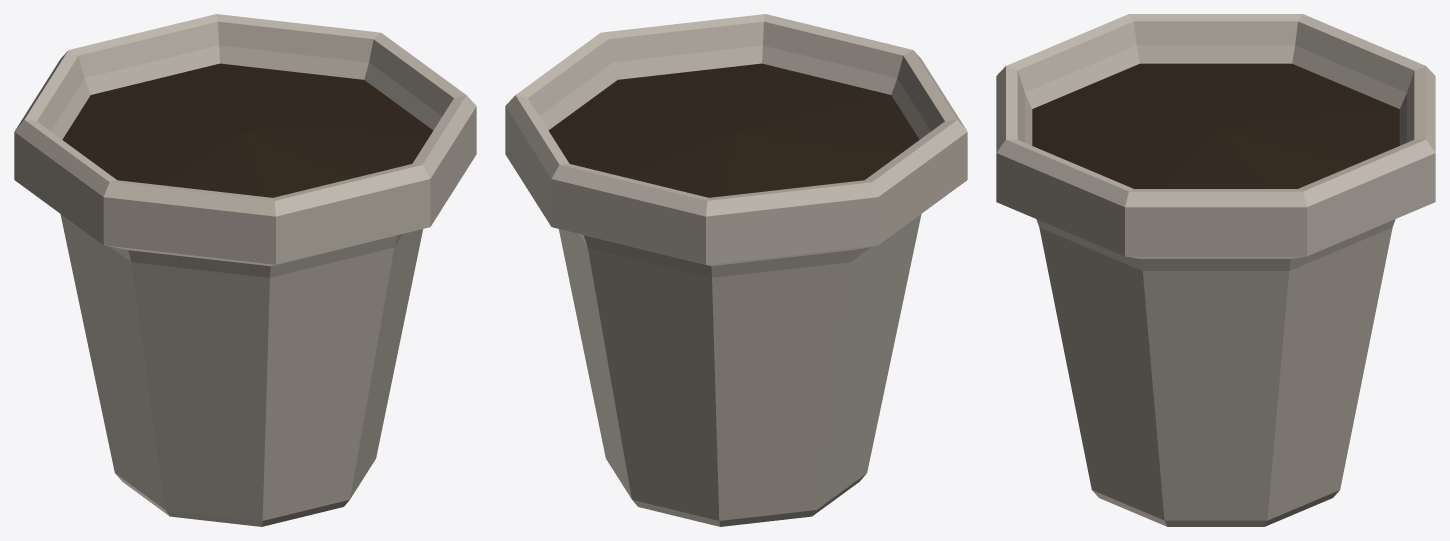
The model's file is SM_Clutter_PlanterOctagon_Concrete_01.fbx.
3 renders of one model, left to right at view 1: azimuth 30°, elevation 25°; view 2: azimuth 150°, elevation 25°; view 3: azimuth 270°, elevation 25°, orthographic.
Visible parts, largest first — view 1: SM_Clutter_PlanterOctagon_Concrete_01; view 2: SM_Clutter_PlanterOctagon_Concrete_01; view 3: SM_Clutter_PlanterOctagon_Concrete_01.
Boxes of the visible parts, x1=… form: SM_Clutter_PlanterOctagon_Concrete_01: x1=14, y1=14, x2=476, y2=526; SM_Clutter_PlanterOctagon_Concrete_01: x1=505, y1=14, x2=967, y2=526; SM_Clutter_PlanterOctagon_Concrete_01: x1=996, y1=14, x2=1435, y2=526.
Size of the model in its own units: 0.34 by 0.32 by 0.34.
1 material, 1 textured.
